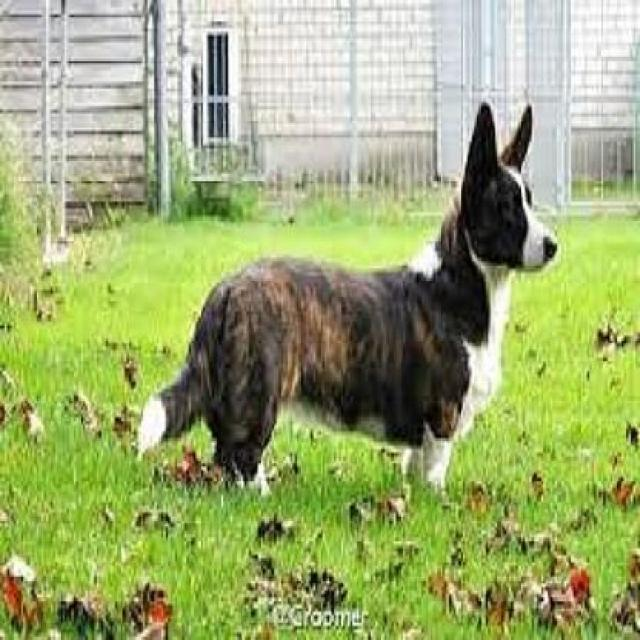Dog: (129, 97, 560, 509)
